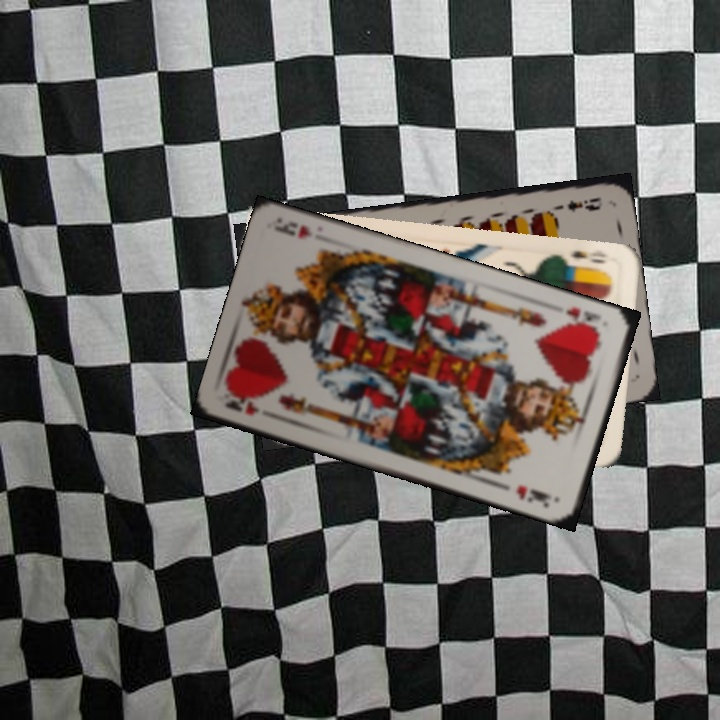E9: (549, 193, 604, 217)
EO: (557, 246, 612, 274)
HK: (561, 303, 604, 336), (221, 389, 262, 418)
